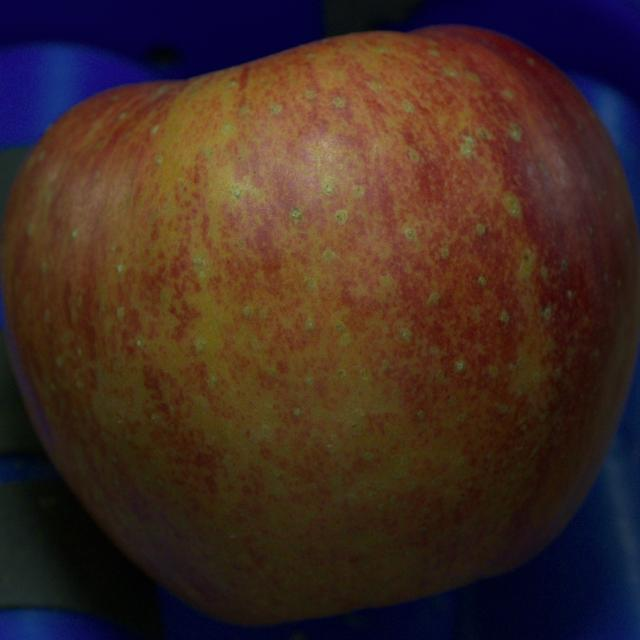apple: (0, 26, 639, 625)
